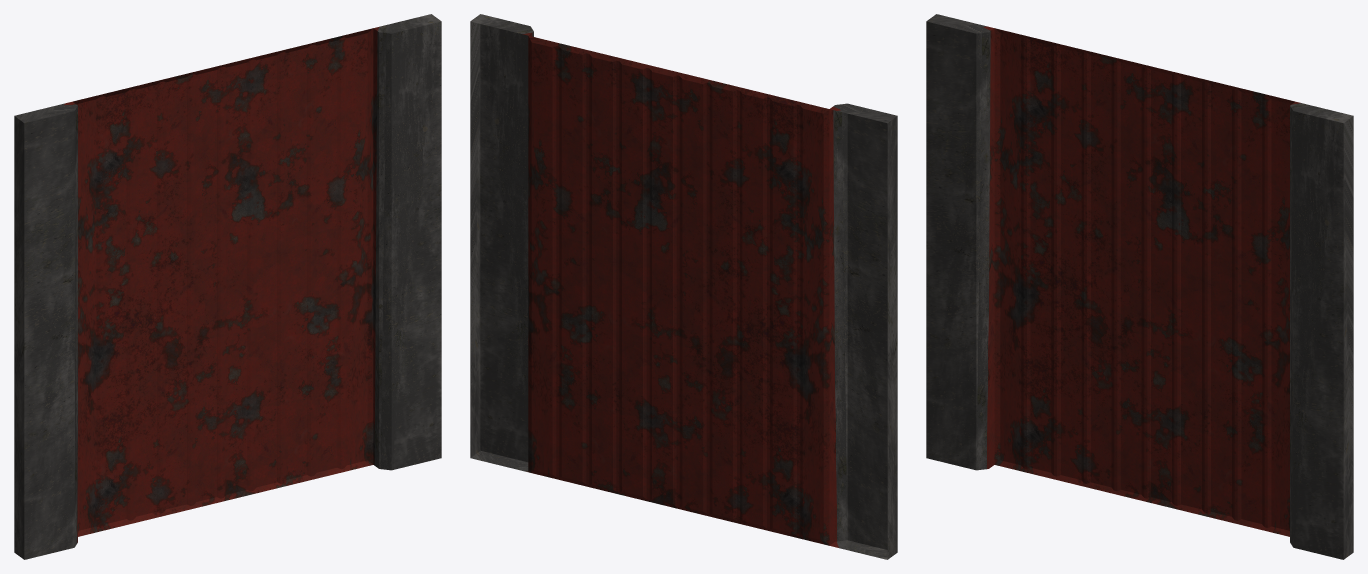
File: Wall_Steel.fbx
3 renders of one model, left to right at view 1: azimuth 30°, elevation 25°; view 2: azimuth 150°, elevation 25°; view 3: azimuth 330°, elevation 25°, orthographic.
Visible parts, largest first — view 1: Wall_blank Steel; view 2: Wall_blank Steel; view 3: Wall_blank Steel.
Part boxes in pixels (bbox=[...]): Wall_blank Steel: bbox=[14, 14, 441, 559]; Wall_blank Steel: bbox=[470, 14, 897, 559]; Wall_blank Steel: bbox=[926, 14, 1353, 559].
Size of the model in its own units: 919 by 919 by 43.59.
1 material, 1 textured.
